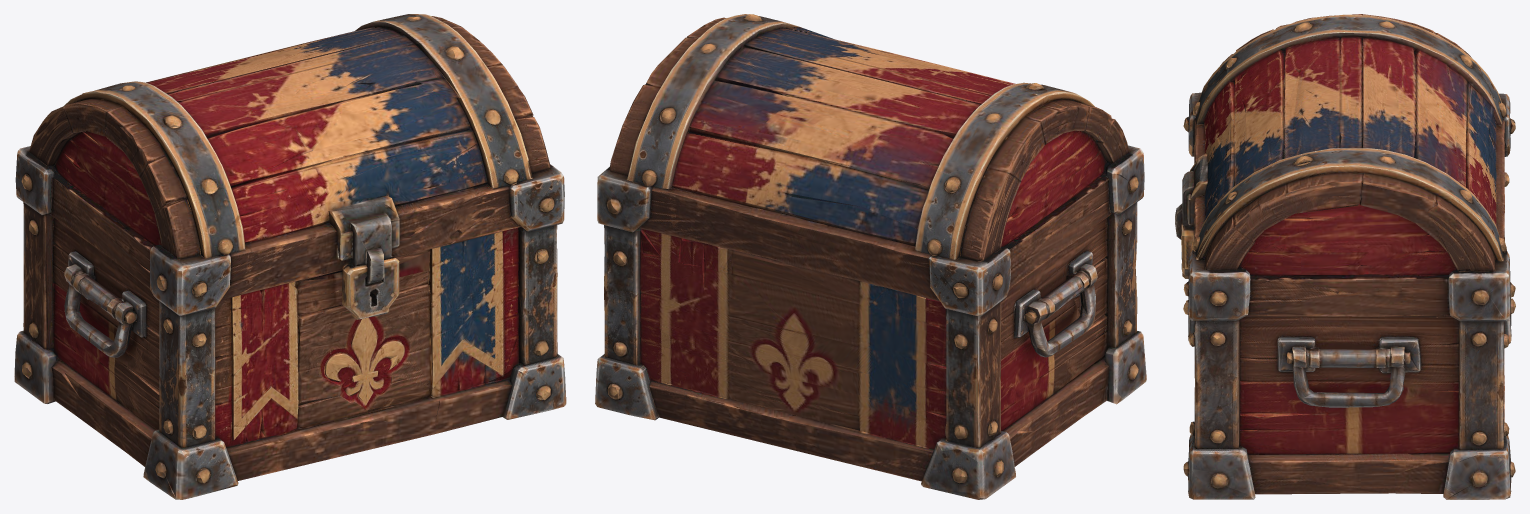
Rendered from chest.glb.
3 renders of one model, left to right at view 1: azimuth 30°, elevation 25°; view 2: azimuth 150°, elevation 25°; view 3: azimuth 270°, elevation 25°, orthographic. The views are drawn at different scales.
Parts seen in each view (by area): view 1: output_unwrapped; view 2: output_unwrapped; view 3: output_unwrapped.
Part boxes in pixels (bbox=[...]): output_unwrapped: bbox=[14, 14, 566, 499]; output_unwrapped: bbox=[595, 14, 1146, 499]; output_unwrapped: bbox=[1175, 14, 1515, 499].
Bounding box in the file's own units: 1.9 × 1.47 × 1.43.
1 material, 1 textured.
